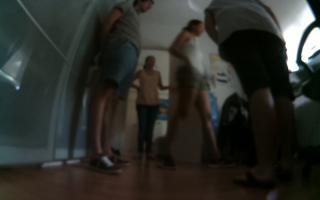person: (205, 1, 311, 191), (159, 18, 238, 172), (89, 1, 155, 176), (131, 55, 170, 163)
